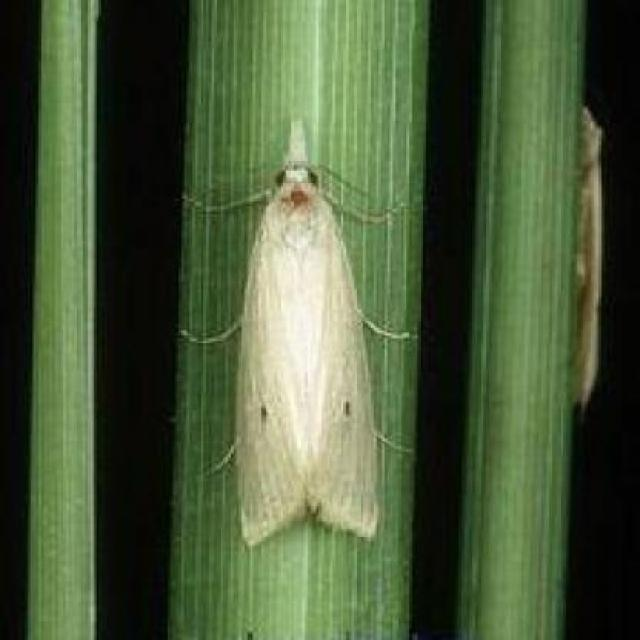stem-borer: (213, 114, 389, 552)
